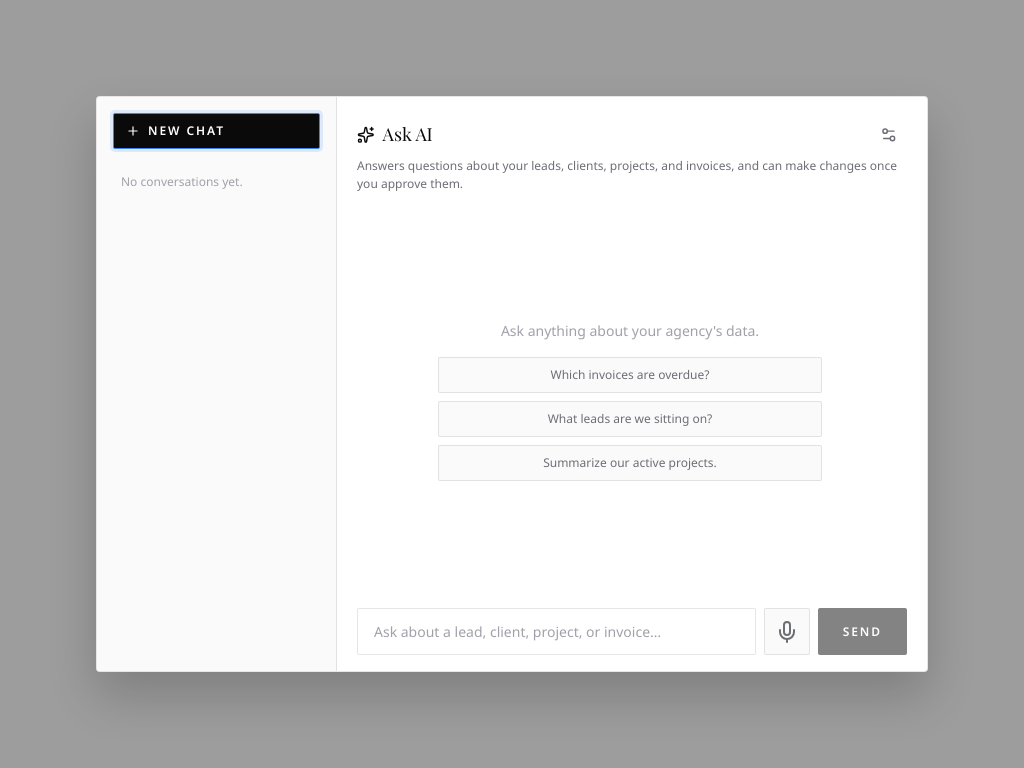
AiModal › changes the assistant makes › shows a streamed proposal as a card, and approving it applies it
Click the button "Which invoices are overdue?" at (630, 375), box [438,357,822,393]
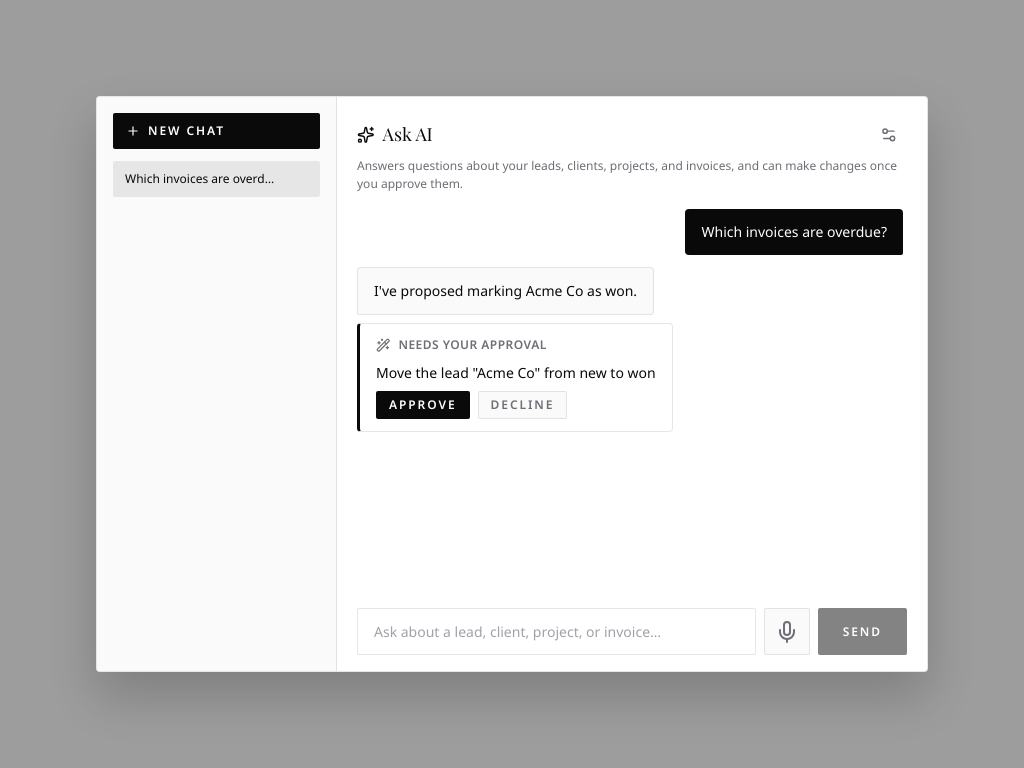
Expected: the text "Move the lead \"Acme Co\" from new to won" is shown, [376,362,656,383]
Expected: the text "I've proposed marking Acme Co as won." is shown, [374,280,637,302]
Click the button "Approve" at (423, 405), box [376,391,470,419]
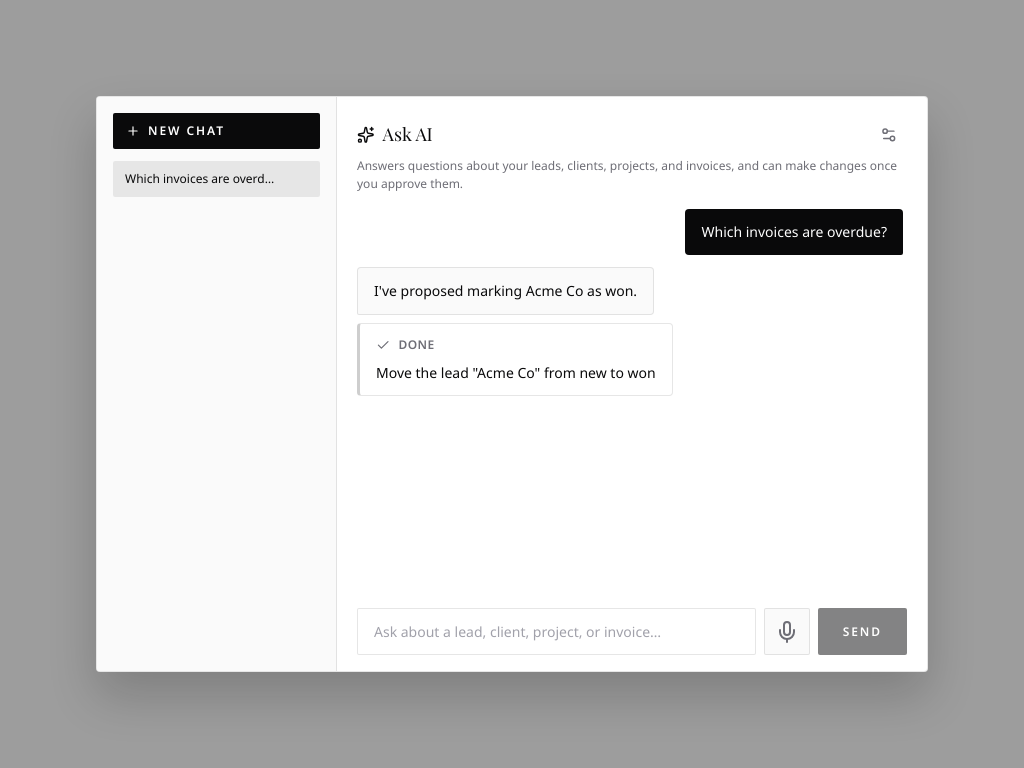
Expected: the button "Approve" is not shown
Expected: the text "Done" is shown, [398,336,435,354]
